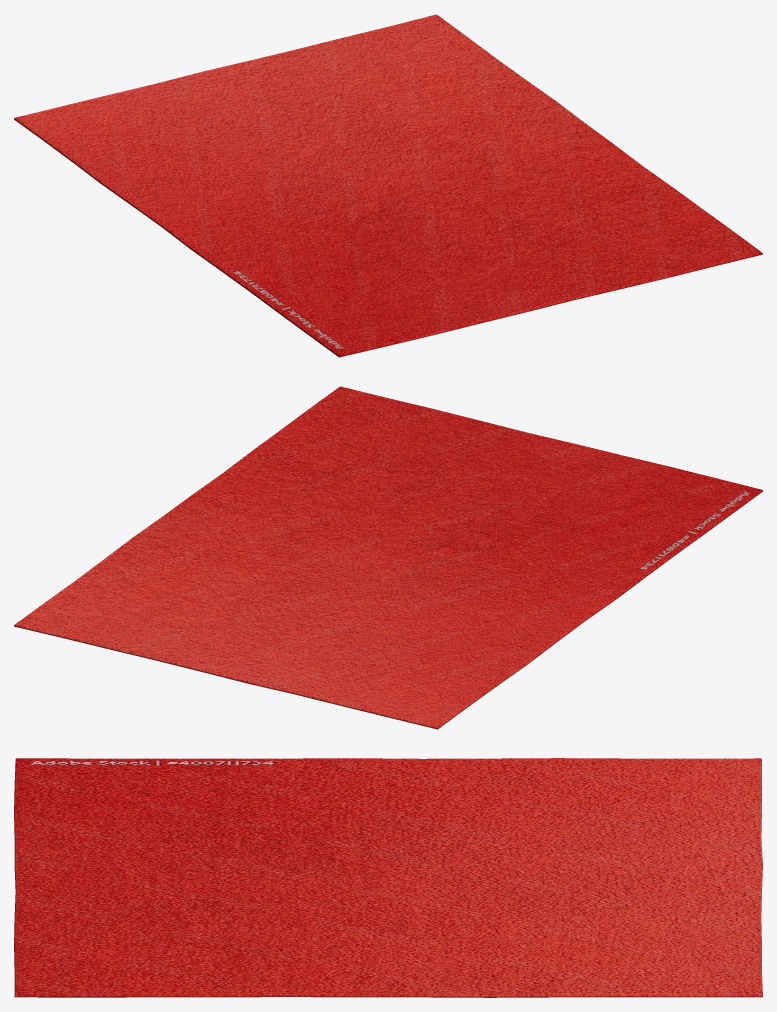
The model's file is Carpet_Red.fbx.
The picture shows the model from 3 angles, top to bottom: view 1: azimuth 30°, elevation 25°; view 2: azimuth 150°, elevation 25°; view 3: azimuth 270°, elevation 25°; orthographic projection. The views are drawn at different scales.
Visible parts, largest first — view 1: RedCarpet; view 2: RedCarpet; view 3: RedCarpet.
Part boxes in pixels (bbox=[...]): RedCarpet: bbox=[14, 14, 762, 357]; RedCarpet: bbox=[14, 386, 762, 729]; RedCarpet: bbox=[14, 758, 762, 997].
Bounding box in the file's own units: 275 × 1.2 × 366.
1 material, 1 textured.
